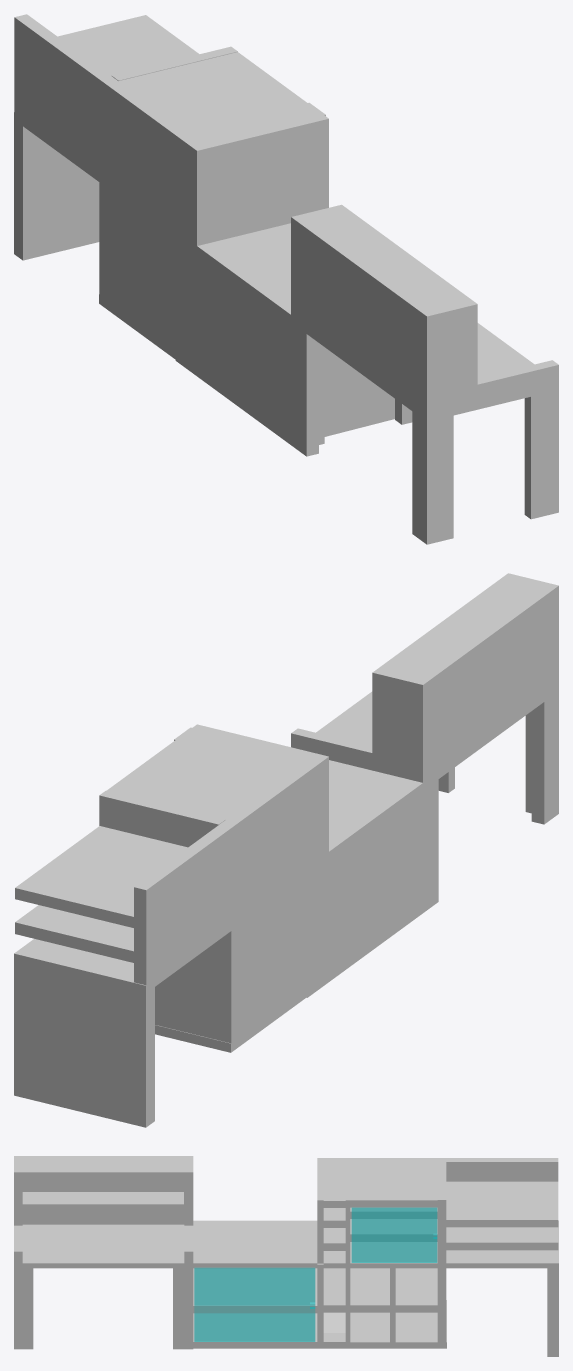
The model's file is саня1.fbx.
3 renders of one model, top to bottom at view 1: azimuth 30°, elevation 25°; view 2: azimuth 150°, elevation 25°; view 3: azimuth 270°, elevation 25°, orthographic. The views are drawn at different scales.
Visible parts, largest first — view 1: Cube; view 2: Cube; view 3: Cube, Cube.002, Cube.001.
Boxes of the visible parts, box(x1,y1,x2,y2) form: Cube: box(14, 14, 558, 544); Cube: box(14, 573, 558, 1127); Cube: box(14, 1156, 558, 1356); Cube.002: box(194, 1268, 315, 1341); Cube.001: box(351, 1207, 437, 1262).
Bounding box in the file's own units: 494 × 817 × 2550.
